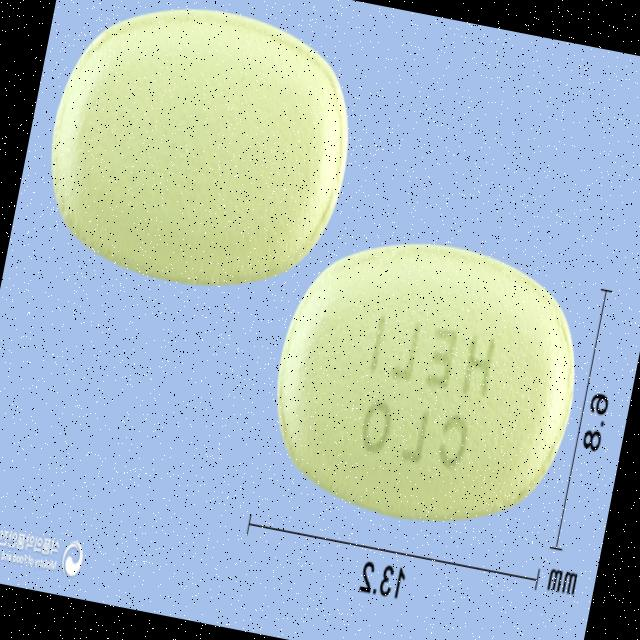Heliclo Tab: (252, 214, 597, 548), (27, 0, 372, 315)
